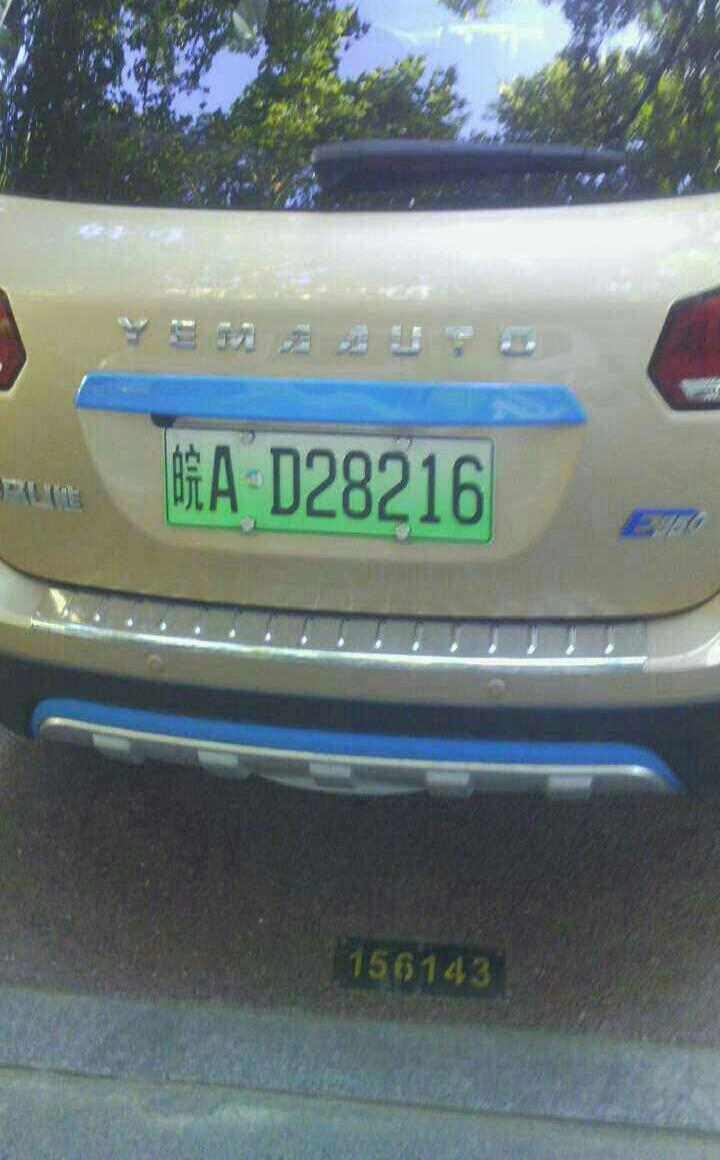car_id: (162, 430, 494, 528)
